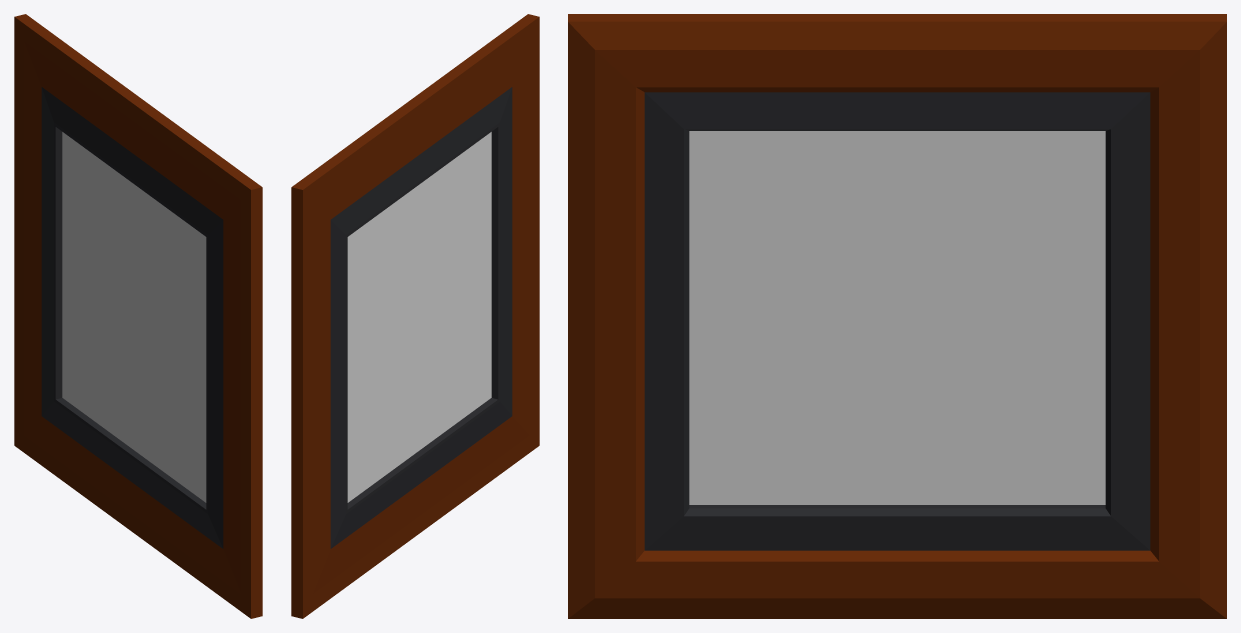
The model's file is moldura (2).fbx.
The picture shows the model from 3 angles, left to right: view 1: azimuth 30°, elevation 25°; view 2: azimuth 150°, elevation 25°; view 3: azimuth 270°, elevation 25°; orthographic projection. The views are drawn at different scales.
Parts seen in each view (by area): view 1: Cube, Plane; view 2: Cube, Plane; view 3: Cube, Plane.
Boxes of the visible parts, x1,y1,x2,y2 form: Cube: (14,14,262,618); Plane: (62,132,206,502); Cube: (291,14,539,618); Plane: (347,132,491,502); Cube: (568,14,1226,618); Plane: (689,131,1105,504).
Size of the model in its own units: 12.33 by 265 by 265.
